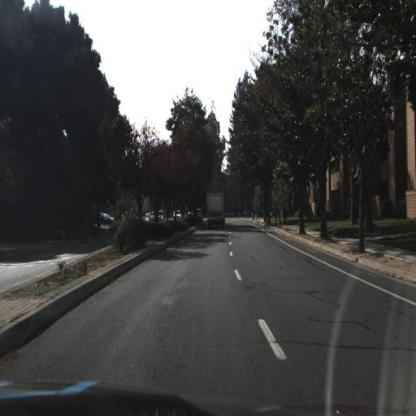car: (93, 206, 118, 231)
truck: (204, 190, 229, 234)
